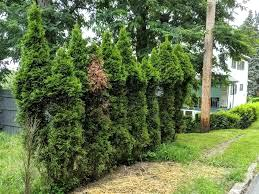Wither Tree Parts: (85, 59, 107, 90)
